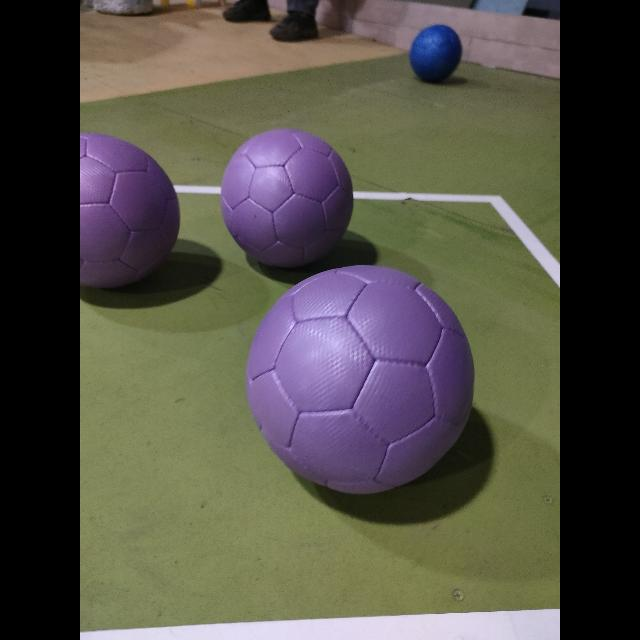B: (412, 22, 464, 84)
P: (247, 266, 473, 492), (220, 129, 352, 267), (80, 132, 180, 288)
